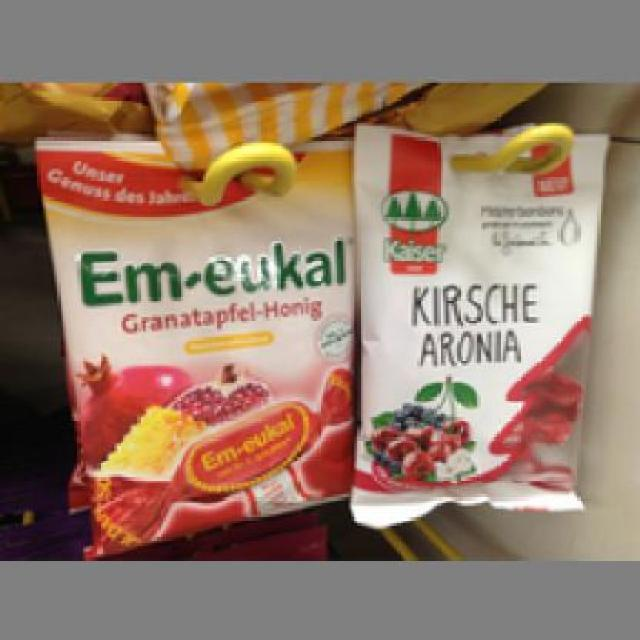Candy: (26, 132, 348, 538), (351, 110, 600, 526)
